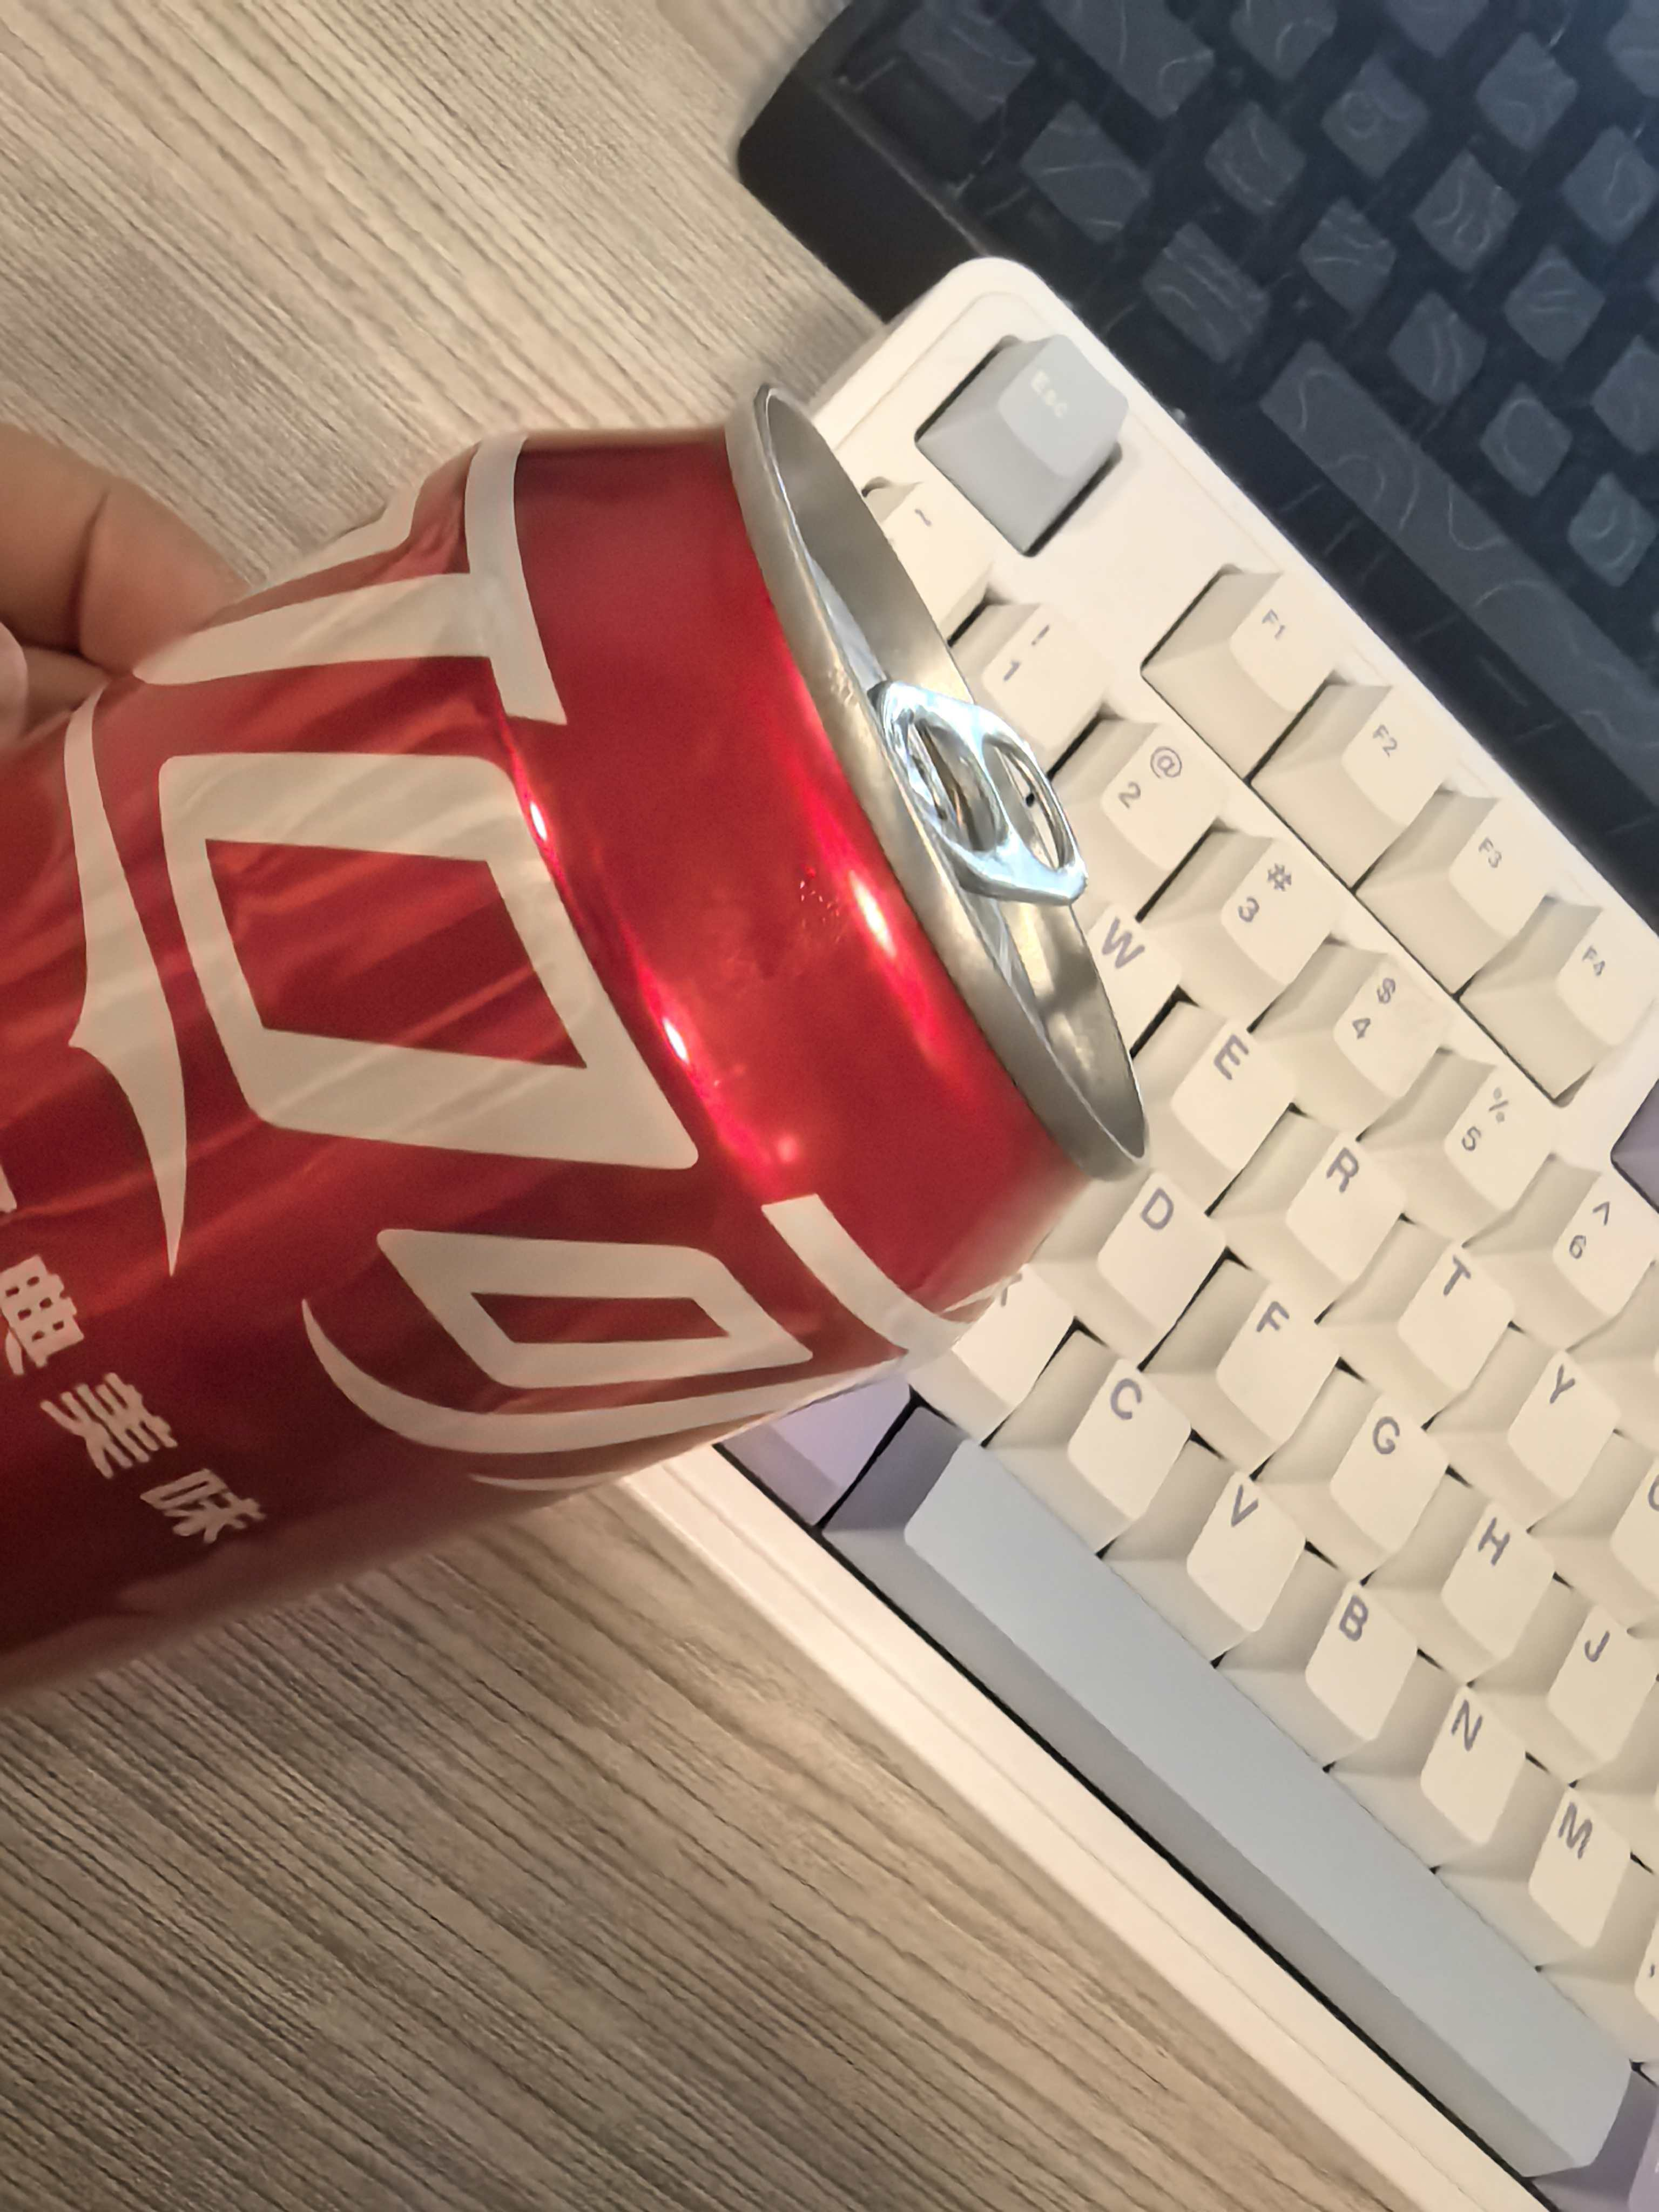可乐: (5, 310, 1107, 1728)
